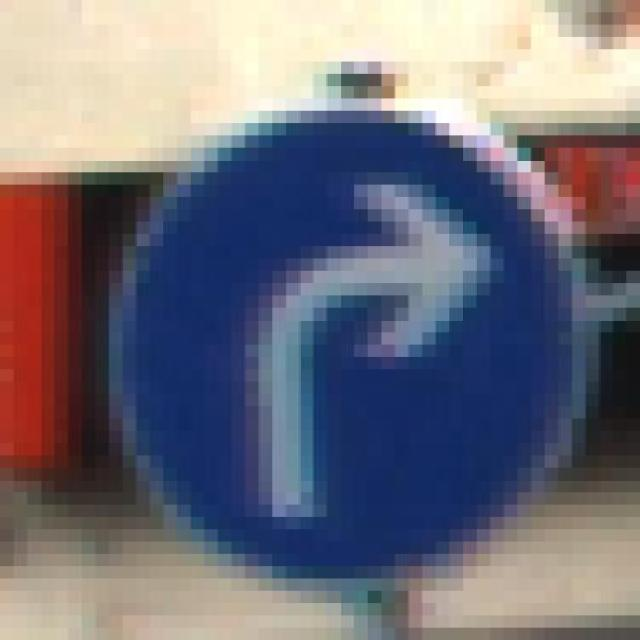Turn right ahead: (82, 86, 586, 591)
